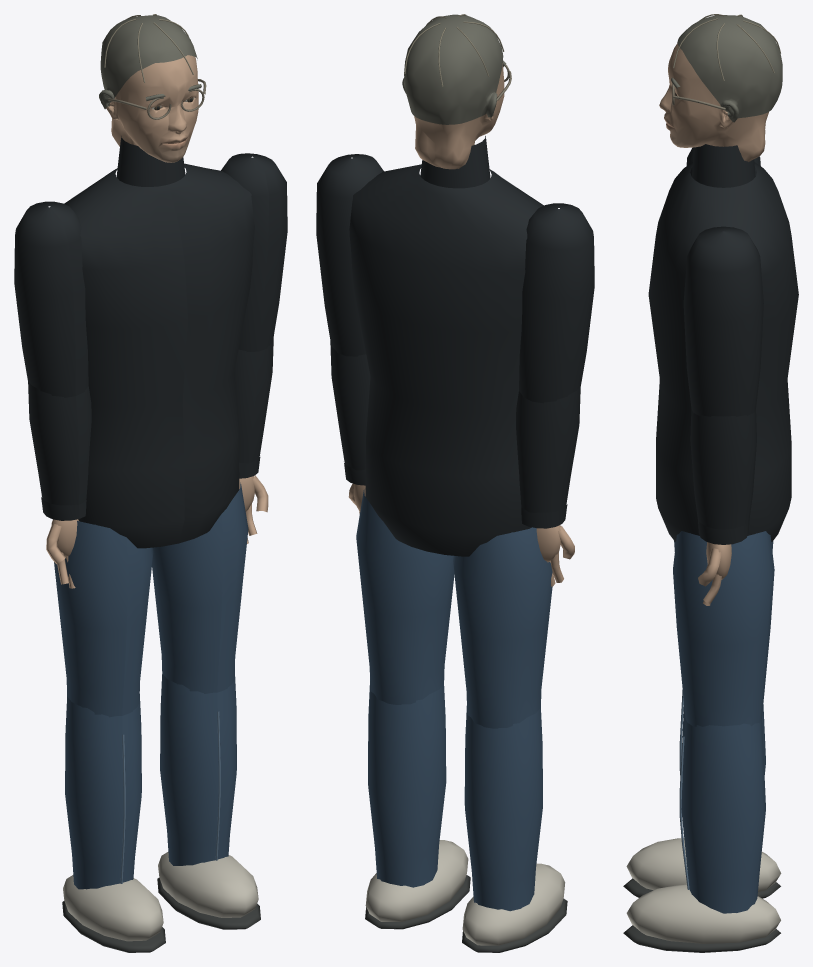
File: steve-jobs.glb
3 renders of one model, left to right at view 1: azimuth 30°, elevation 25°; view 2: azimuth 150°, elevation 25°; view 3: azimuth 270°, elevation 25°, orthographic.
Visible parts, largest first — view 1: Torso, TrouserThigh (×2), TrouserCalf (×2), TailoredSleeve (×2), Shoe (×2), LeftForearm, AnatomicalFace, Head, RightForearm, Sole (×2), LeftHand, RightHand; view 2: Torso, TrouserThigh (×2), TrouserCalf (×2), TailoredSleeve (×2), Head, Shoe (×2), LeftForearm, RightForearm, AnatomicalFace, Sole (×2), LeftHand; view 3: Torso, TrouserThigh, TrouserCalf, TailoredSleeve, Shoe (×2), Head, RightForearm, AnatomicalFace, Sole (×2), RightHand, TrouserSeam.
Boxes of the visible parts, bbox=[...] form: Torso: bbox=[64, 136, 254, 548]; TrouserThigh (×2): bbox=[54, 482, 248, 717]; TrouserCalf (×2): bbox=[65, 670, 236, 889]; TailoredSleeve (×2): bbox=[14, 153, 287, 397]; Shoe (×2): bbox=[63, 852, 258, 941]; LeftForearm: bbox=[28, 381, 91, 520]; AnatomicalFace: bbox=[106, 55, 198, 162]; Head: bbox=[99, 14, 206, 119]; RightForearm: bbox=[234, 338, 273, 478]; Sole (×2): bbox=[62, 878, 260, 952]; LeftHand: bbox=[46, 519, 78, 588]; RightHand: bbox=[239, 475, 268, 543]; Torso: bbox=[349, 136, 543, 556]; TrouserThigh (×2): bbox=[356, 489, 552, 728]; TrouserCalf (×2): bbox=[368, 681, 542, 911]; TailoredSleeve (×2): bbox=[316, 154, 594, 403]; Head: bbox=[402, 14, 511, 124]; Shoe (×2): bbox=[365, 840, 565, 945]; LeftForearm: bbox=[516, 386, 580, 528]; RightForearm: bbox=[330, 341, 370, 485]; AnatomicalFace: bbox=[414, 63, 504, 169]; Sole (×2): bbox=[365, 875, 567, 952]; LeftHand: bbox=[536, 525, 574, 586]; Torso: bbox=[648, 144, 798, 541]; TrouserThigh: bbox=[673, 531, 774, 726]; TrouserCalf: bbox=[681, 718, 765, 913]; TailoredSleeve: bbox=[683, 226, 763, 416]; Shoe (×2): bbox=[626, 838, 781, 943]; Head: bbox=[671, 14, 782, 122]; RightForearm: bbox=[690, 409, 756, 544]; AnatomicalFace: bbox=[659, 43, 768, 161]; Sole (×2): bbox=[623, 878, 780, 952]; RightHand: bbox=[698, 542, 731, 605]; TrouserSeam: bbox=[679, 736, 689, 889].
Size of the model in its own units: 0.5433 by 1.76 by 0.311.
